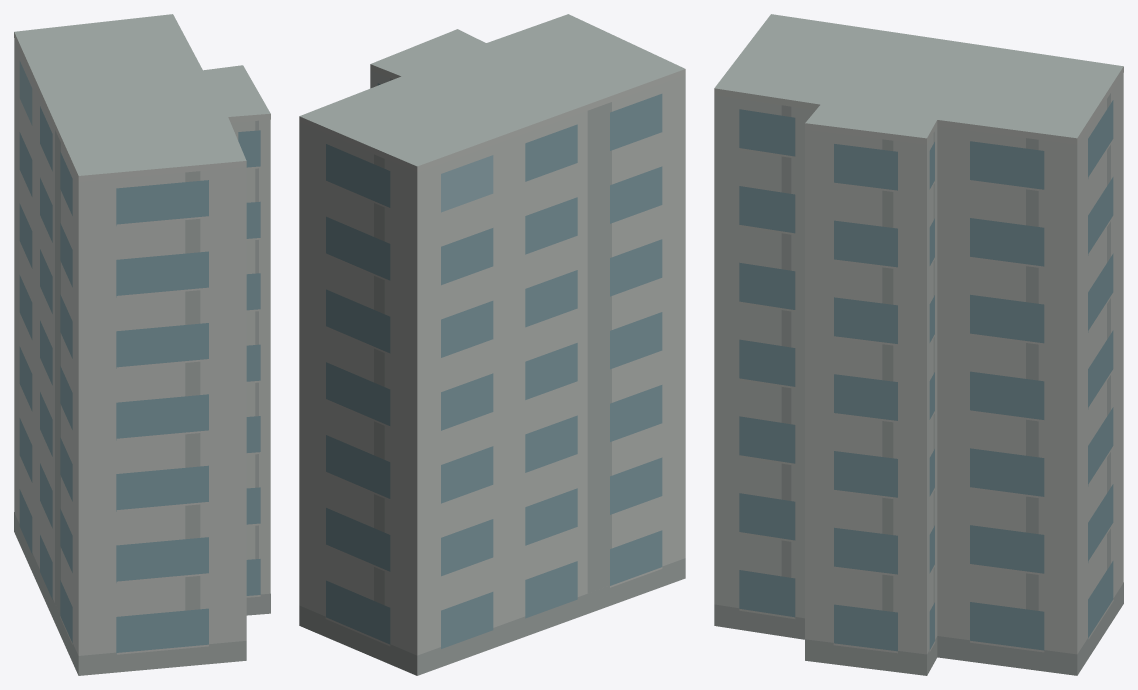
File: survey-upis-33012624.glb
3 renders of one model, left to right at view 1: azimuth 30°, elevation 25°; view 2: azimuth 150°, elevation 25°; view 3: azimuth 270°, elevation 25°, orthographic. The views are drawn at different scales.
Parts seen in each view (by area): view 1: survey-upis-33012624.tmp; view 2: survey-upis-33012624.tmp; view 3: survey-upis-33012624.tmp.
Boxes of the visible parts, <box> form: survey-upis-33012624.tmp: <box>14,14,270,675</box>; survey-upis-33012624.tmp: <box>299,14,685,675</box>; survey-upis-33012624.tmp: <box>714,14,1123,675</box>.
Size of the model in its own units: 9.93 by 20 by 13.82.
